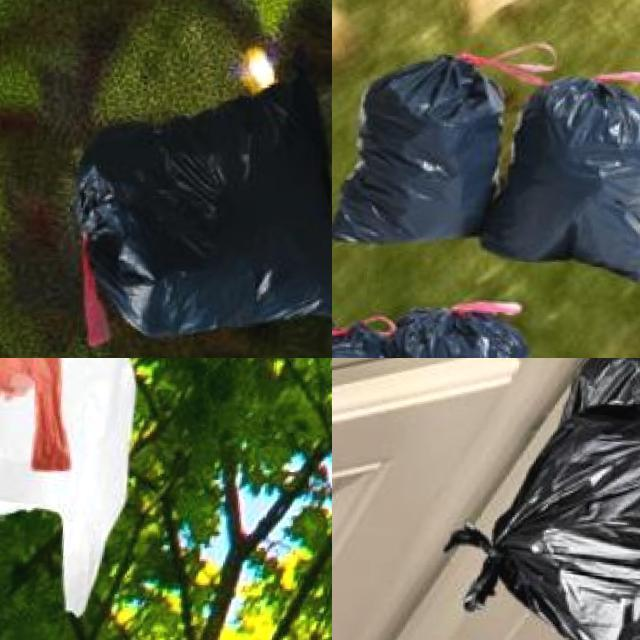waste: (62, 64, 332, 357), (474, 396, 640, 640), (0, 358, 145, 619), (337, 43, 507, 237), (492, 65, 640, 264), (373, 300, 546, 358)
